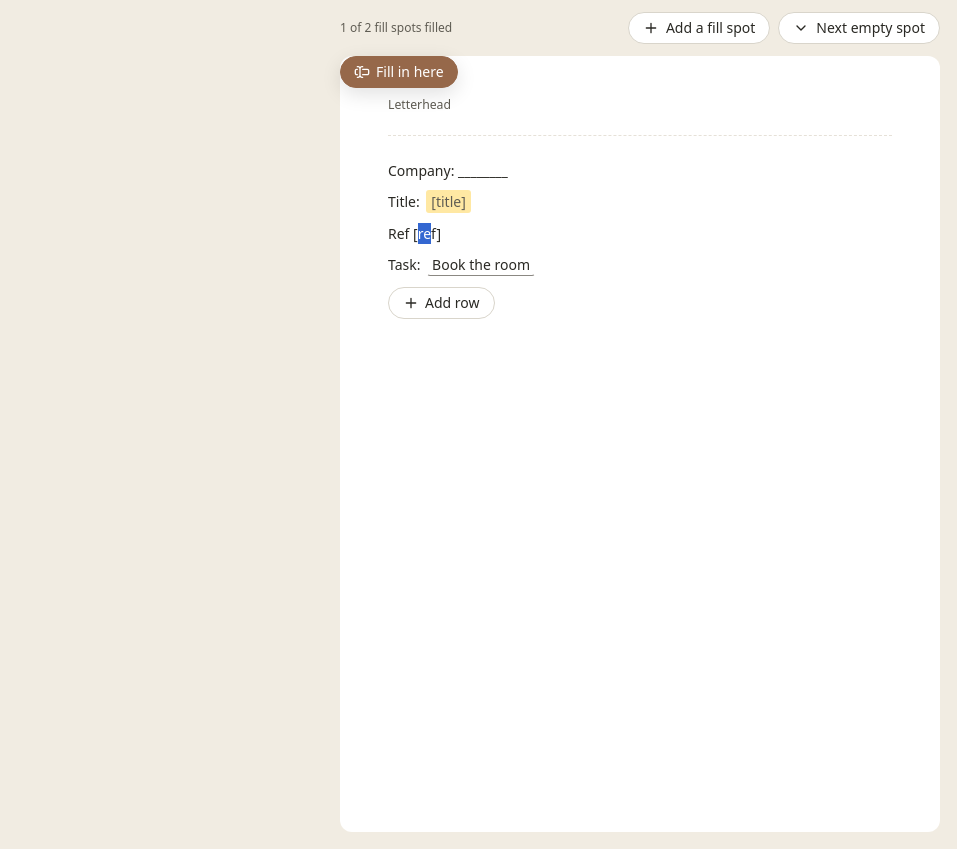
DocumentPage: the menu on the page text › opens at the selection with the ContextMenu key or Shift+F10, and makes a control no field names the spot
The width and height of the screenshot is (957, 849).
Press F10
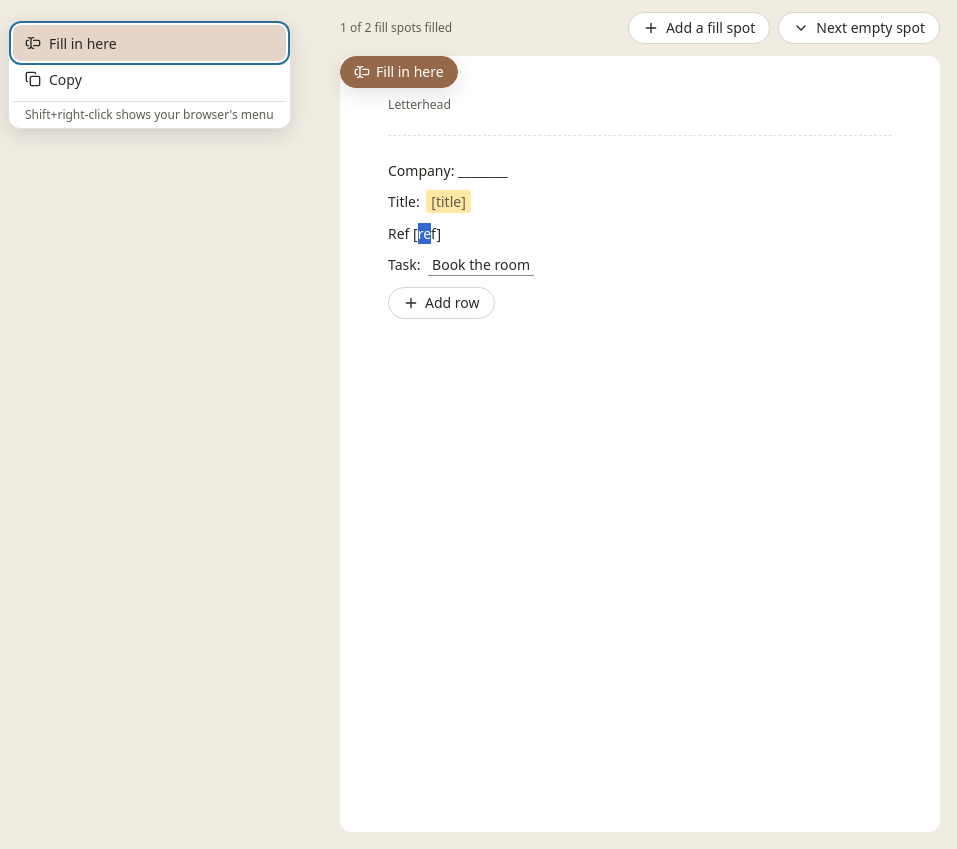
Now the element with class "spot-menu" is shown, box [8, 20, 291, 129]
Right-click the text "[ref]".
right_click(427, 234)  # box [413, 224, 441, 243]
Click the menu item "Fill in here".
click(83, 43)  # box [13, 25, 286, 61]
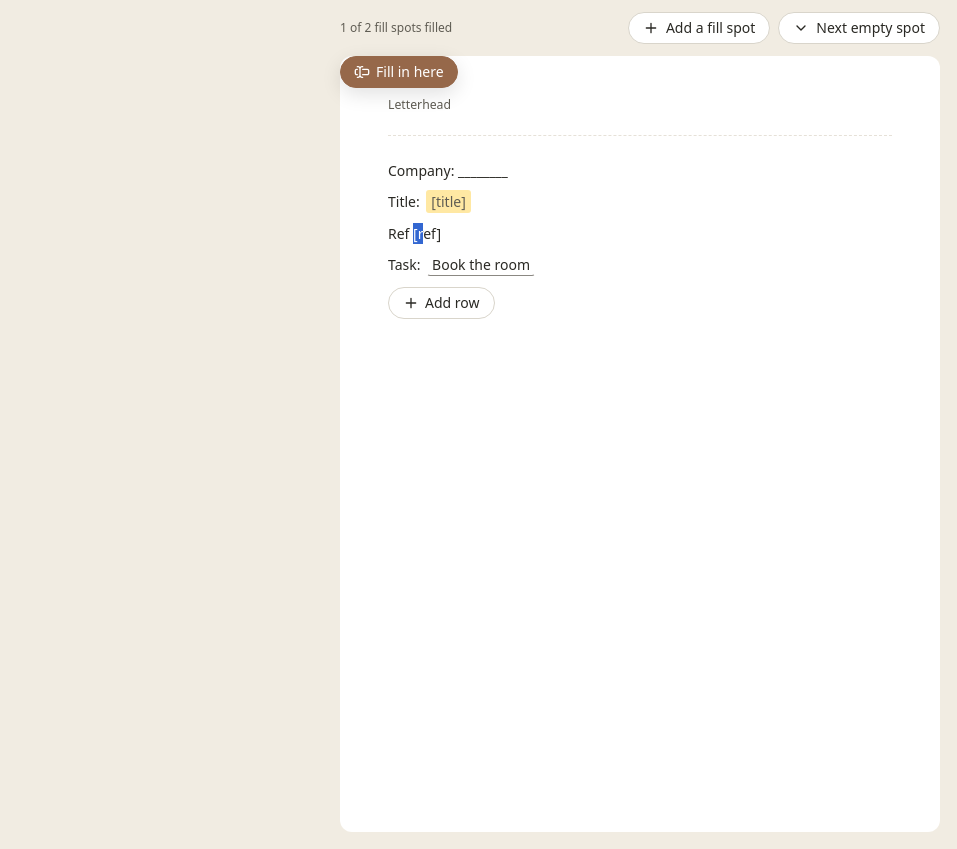
Press ContextMenu
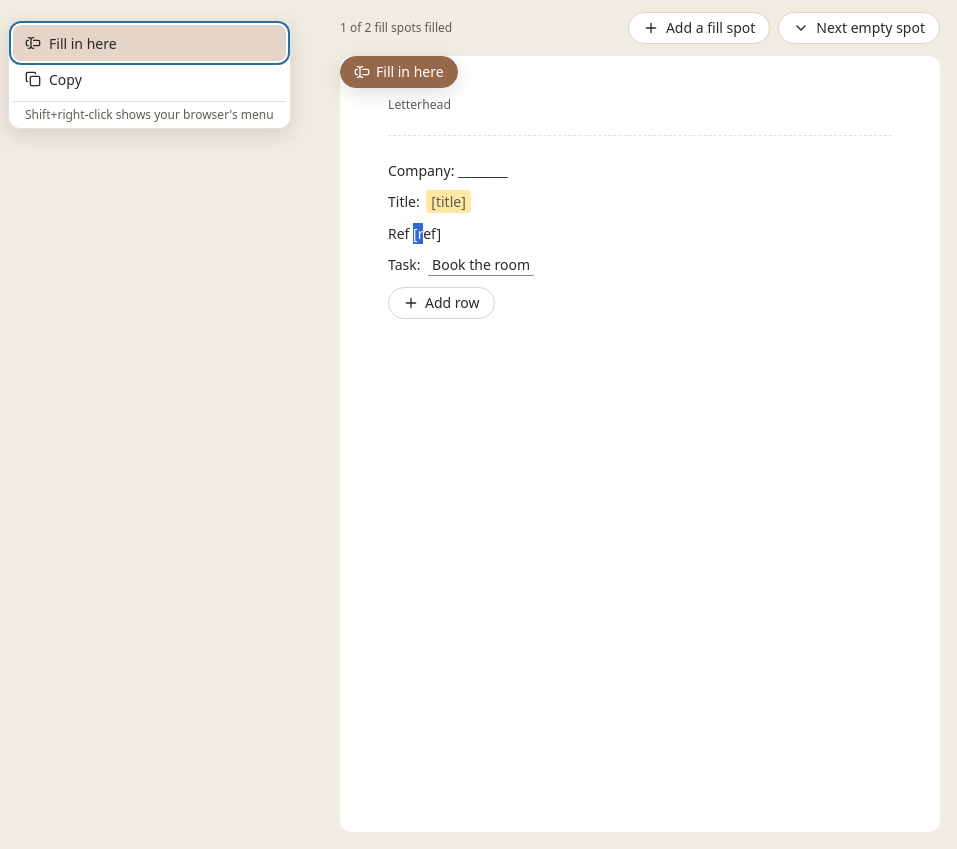
Now the element with class "spot-menu" is shown, box [8, 20, 291, 129]
